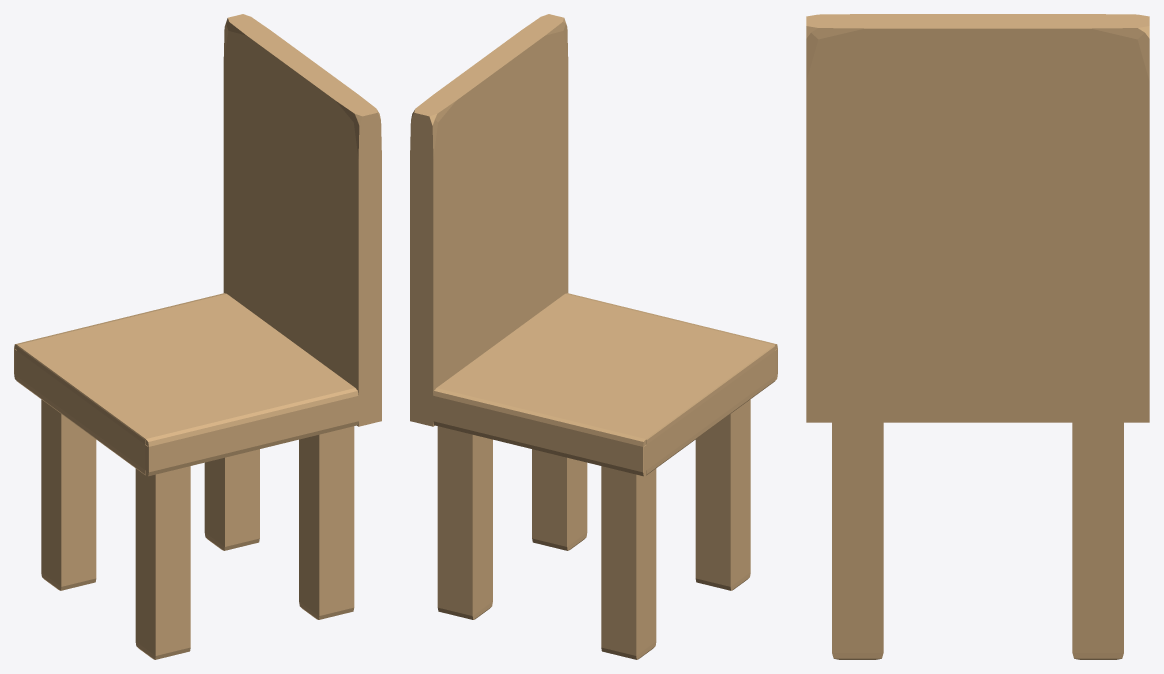
Rendered from chair.obj.
3 views of the same model, side by side, from view 1: azimuth 30°, elevation 25°; view 2: azimuth 150°, elevation 25°; view 3: azimuth 270°, elevation 25° (orthographic). The views are drawn at different scales.
Parts seen in each view (by area): view 1: Cube.001; view 2: Cube.001; view 3: Cube.001.
Part boxes in pixels (bbox=[...]): Cube.001: bbox=[14, 14, 381, 659]; Cube.001: bbox=[410, 14, 777, 659]; Cube.001: bbox=[806, 14, 1149, 659].
Bounding box in the file's own units: 2 × 4.13 × 2.
